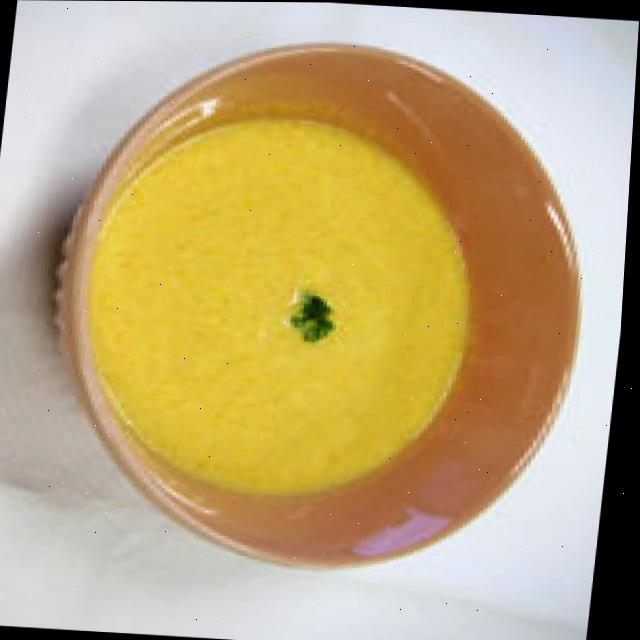汤锅炖物: (25, 28, 626, 591)
